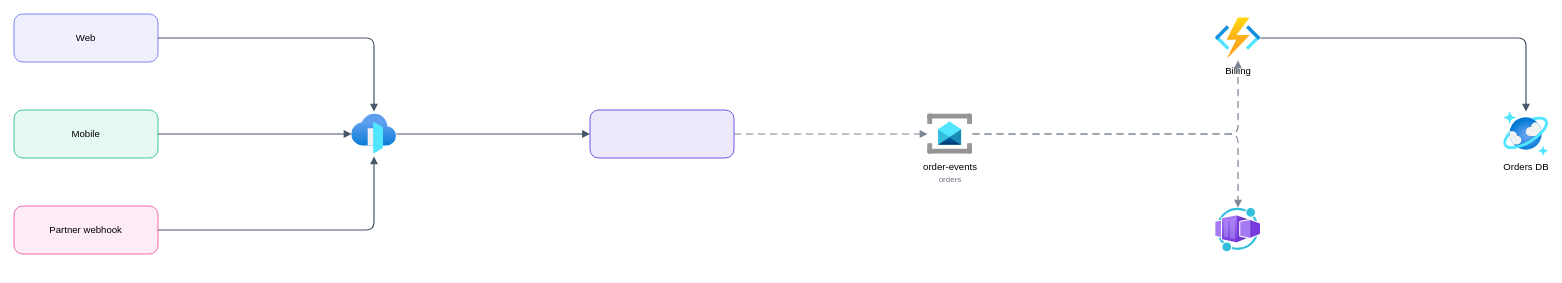
This 1562x283 diagram has some shape labels left out. Here are the shapes that lost their labels. From the top down, the centre of each, then its label:
[373,133]: Front Door
[661,133]: Orders
[1237,229]: Search indexer
